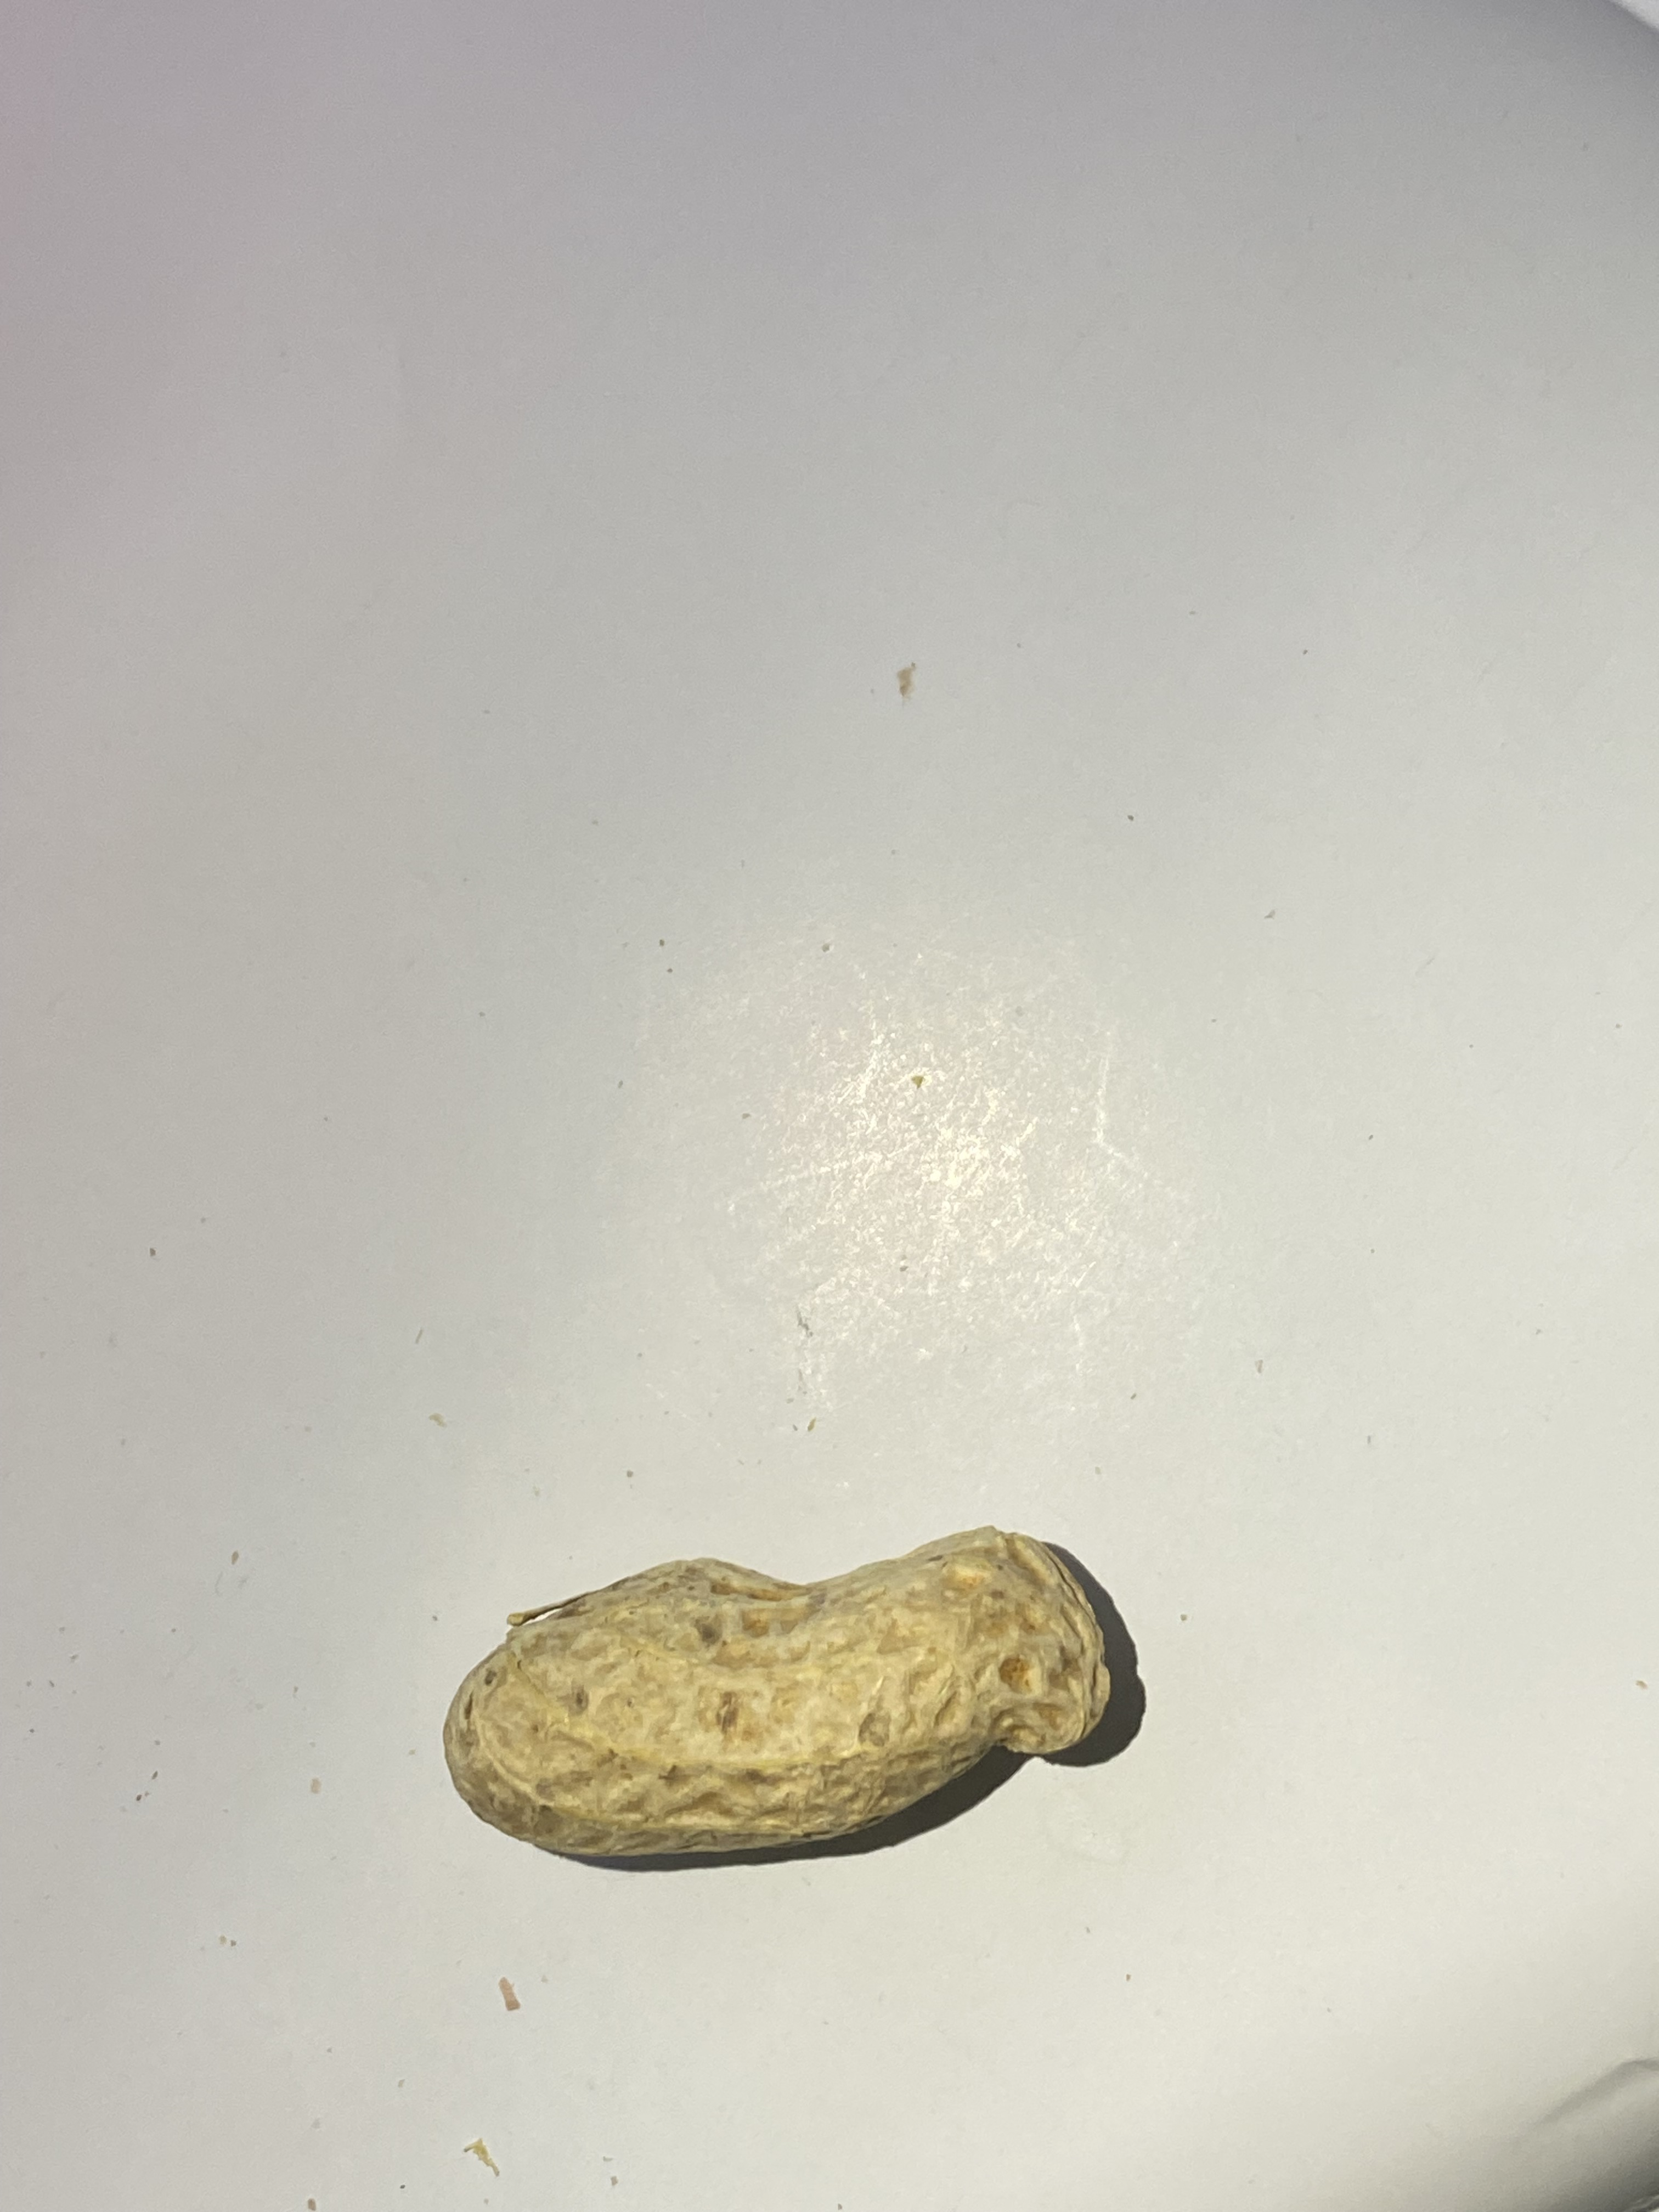kacang2: (399, 1524, 1175, 1867)
